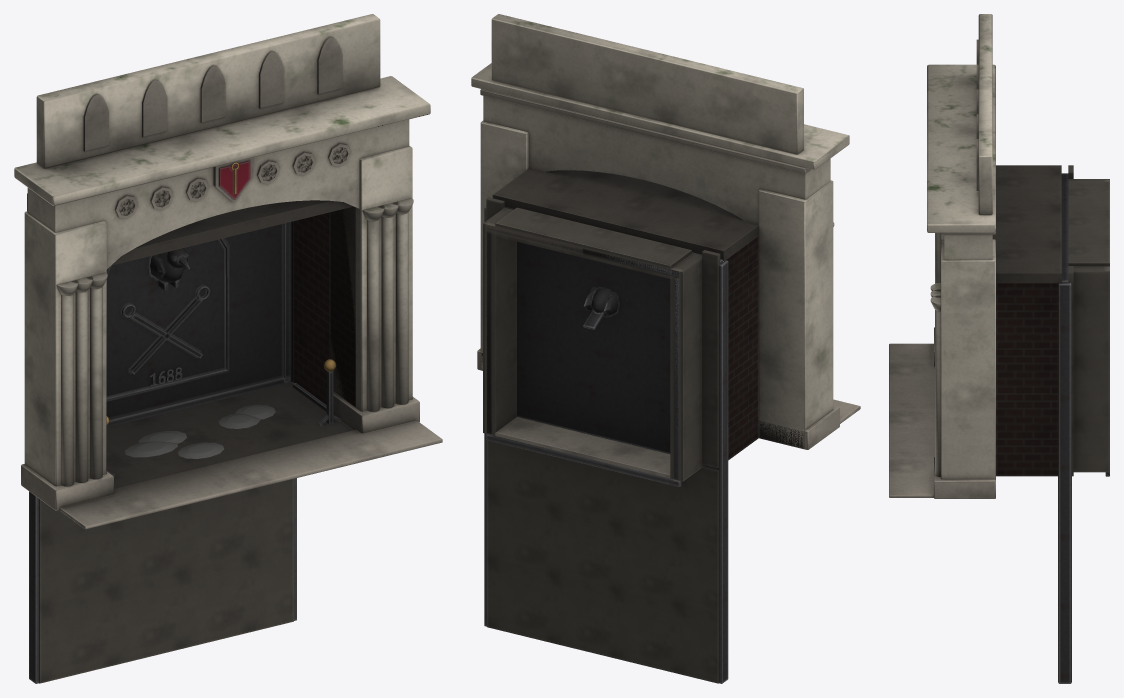
File: FireplacePassage.fbx
3 views of the same model, side by side, from view 1: azimuth 30°, elevation 25°; view 2: azimuth 150°, elevation 25°; view 3: azimuth 270°, elevation 25° (orthographic). The views are drawn at different scales.
Visible parts, largest first — view 1: FireplacePassage_Main, FireplacePassage_Slide0; view 2: FireplacePassage_Main, FireplacePassage_Slide0; view 3: FireplacePassage_Main, FireplacePassage_Slide0.
Part boxes in pixels (x1,y1,x2,y2): FireplacePassage_Main: [14, 14, 442, 683]; FireplacePassage_Slide0: [106, 222, 291, 427]; FireplacePassage_Main: [471, 14, 860, 683]; FireplacePassage_Slide0: [504, 206, 723, 453]; FireplacePassage_Main: [889, 14, 1109, 683]; FireplacePassage_Slide0: [1061, 174, 1068, 282].
Size of the model in its own units: 1100 by 1740 by 640.
